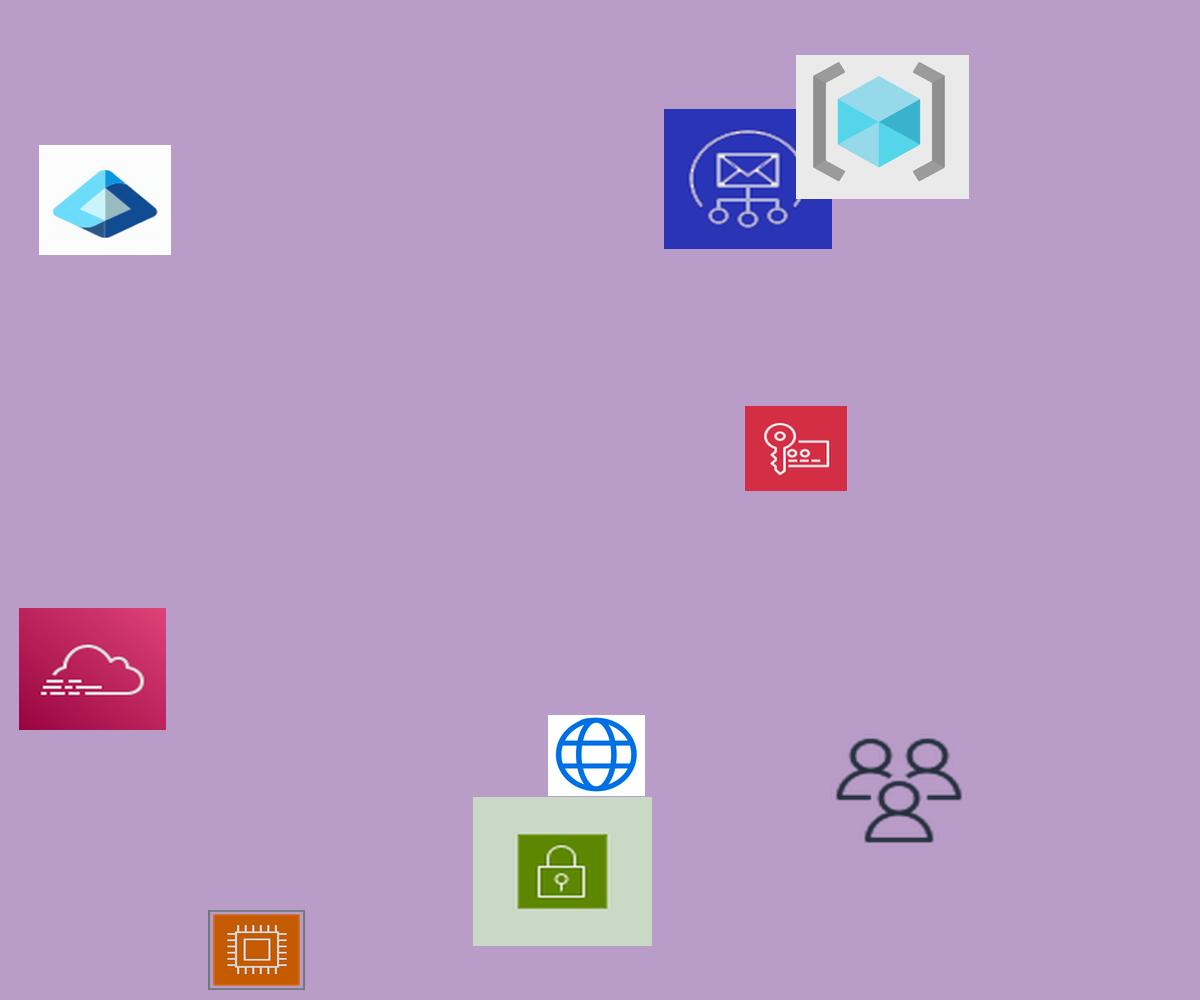AWS-Category_Compute: (208, 910, 305, 990)
AWS-CloudTrail: (19, 608, 166, 730)
AWS-Key-Management-Service: (745, 406, 847, 491)
AWS-Public-subnet: (473, 797, 652, 946)
AWS-Res_Users: (831, 734, 967, 847)
AWS-Simple-Email-Service: (664, 109, 832, 249)
Azure_http: (548, 715, 645, 796)
Azure_microsoft_entra: (39, 145, 171, 255)
Azure_resource_group: (796, 55, 969, 199)
